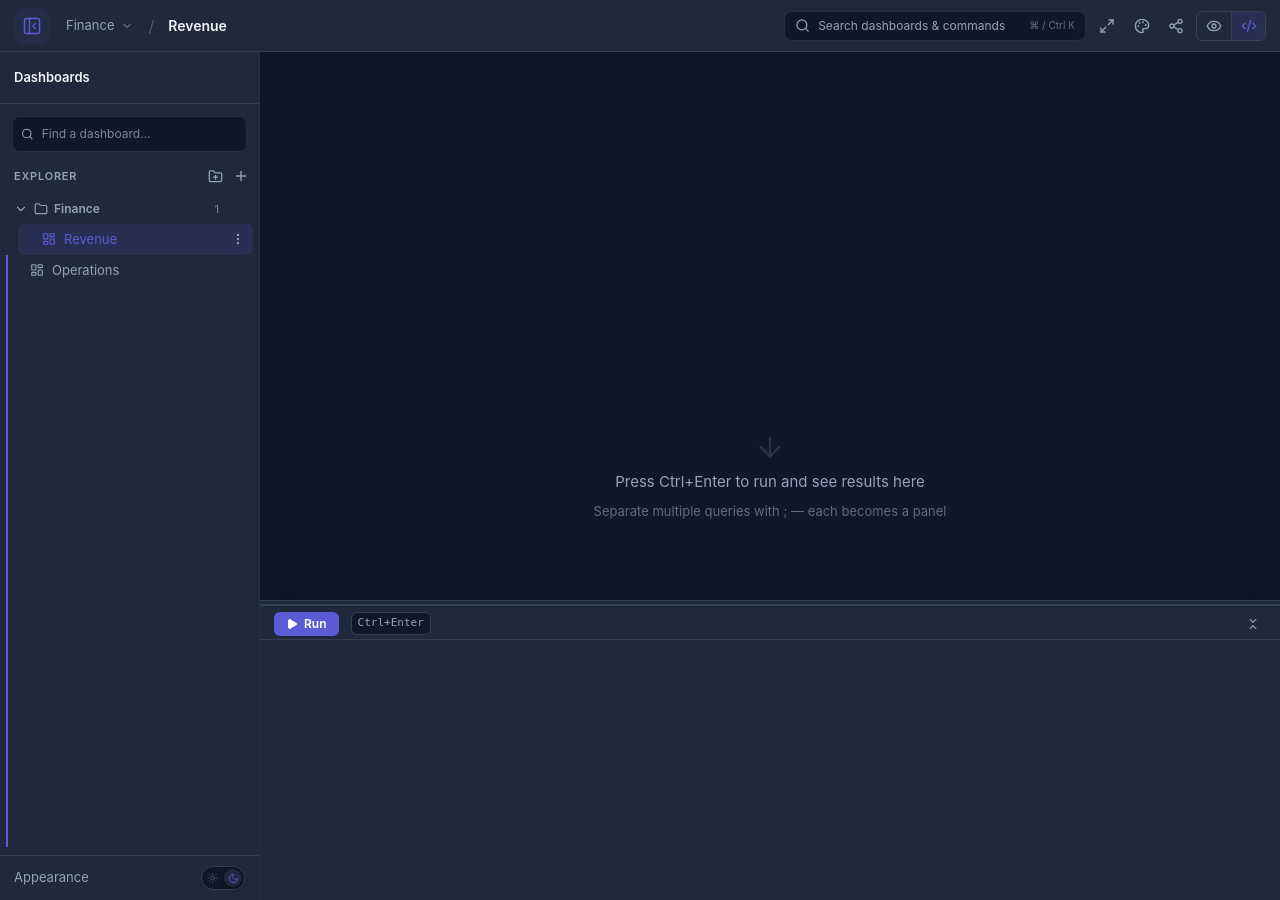
Scenario: / workspace navigation › restores the saved visibility and still closes when storage is unavailable
The image size is (1280, 900).
Check: the navigation bar is shown, box [0, 52, 259, 899]
Click the button named "Hide navigation". click: (32, 26)
box: [14, 8, 50, 44]
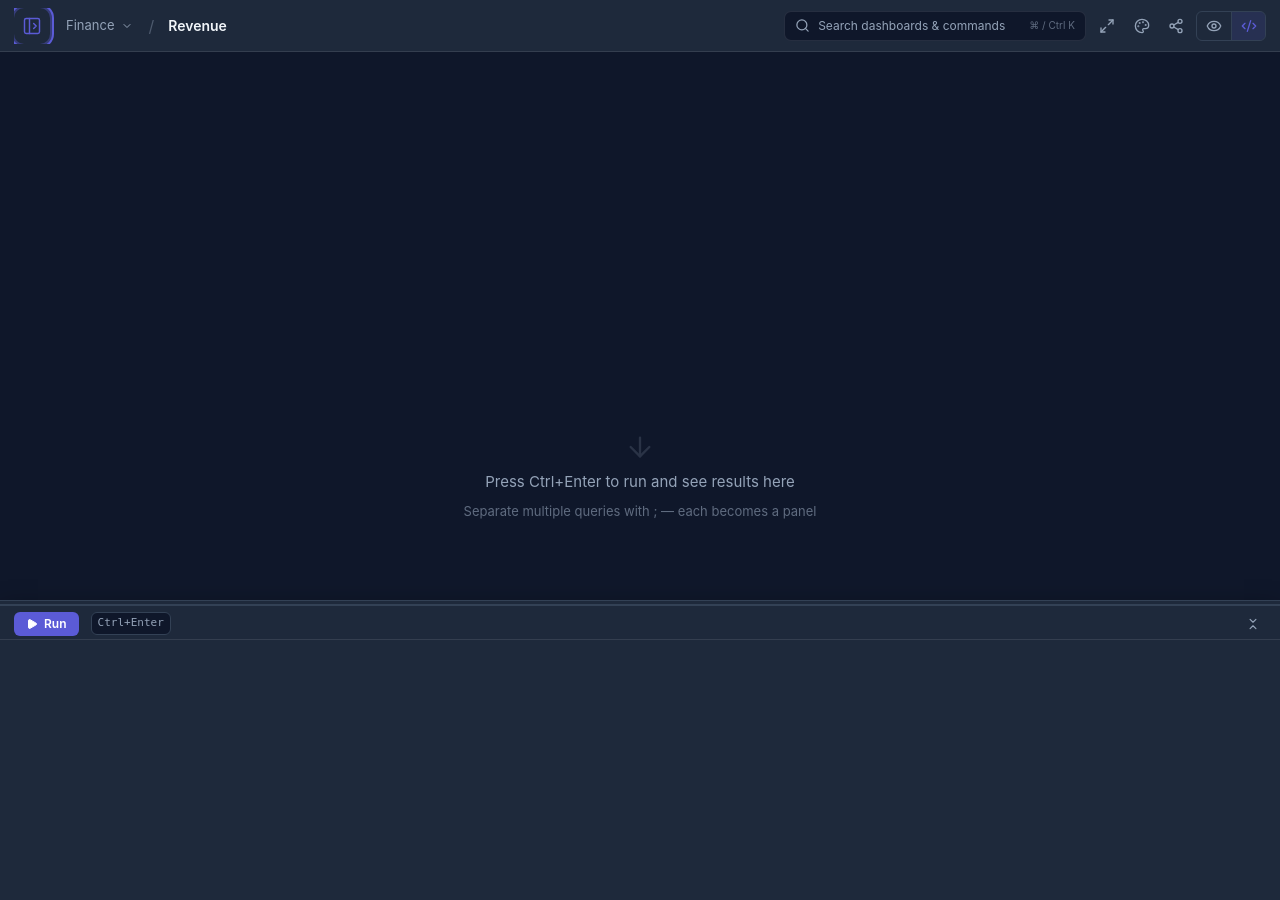
Check: the navigation bar is gone
